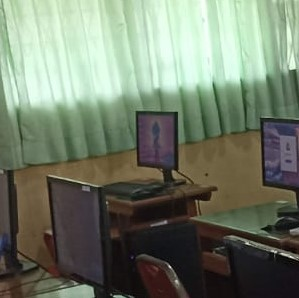monitor: (46, 174, 114, 293), (259, 117, 298, 198), (136, 111, 179, 172)
